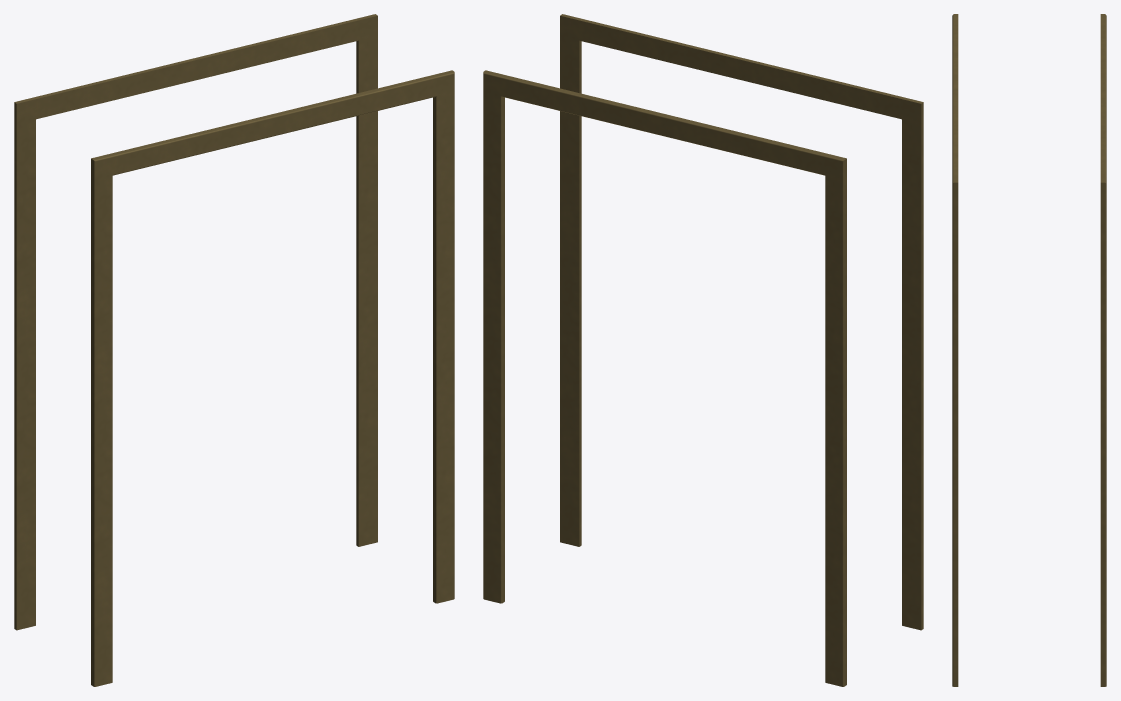
The model's file is SM_L0_DoorCasing.fbx.
The picture shows the model from 3 angles, left to right: view 1: azimuth 30°, elevation 25°; view 2: azimuth 150°, elevation 25°; view 3: azimuth 270°, elevation 25°; orthographic projection. The views are drawn at different scales.
Visible parts, largest first — view 1: SM_L0_DoorCasing; view 2: SM_L0_DoorCasing; view 3: SM_L0_DoorCasing.
Boxes of the visible parts, left/top/right/bottom form: SM_L0_DoorCasing: left=14, top=14, right=454, bottom=686; SM_L0_DoorCasing: left=483, top=14, right=923, bottom=686; SM_L0_DoorCasing: left=952, top=14, right=1106, bottom=686.
Size of the model in its own units: 1.68 by 2.34 by 0.65.
